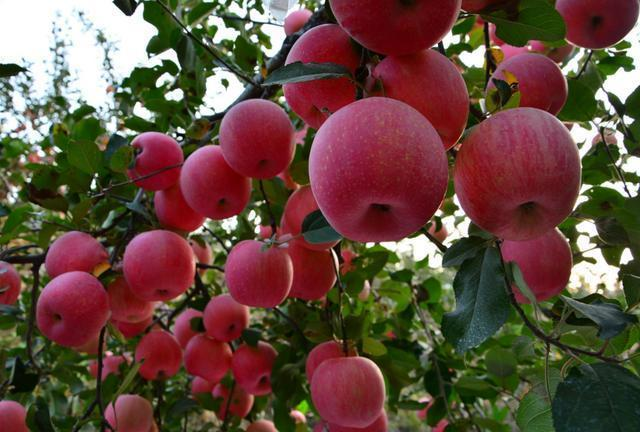apple: (307, 95, 449, 245), (452, 107, 583, 251), (283, 21, 373, 127), (374, 48, 468, 149), (330, 1, 461, 57), (219, 100, 296, 181), (36, 272, 110, 351), (308, 355, 385, 428), (500, 225, 572, 300), (123, 230, 196, 302), (178, 145, 249, 219), (484, 54, 567, 117), (224, 236, 296, 306), (555, 1, 637, 50), (280, 235, 336, 300), (127, 133, 182, 189), (45, 231, 108, 278), (1, 400, 31, 432)
